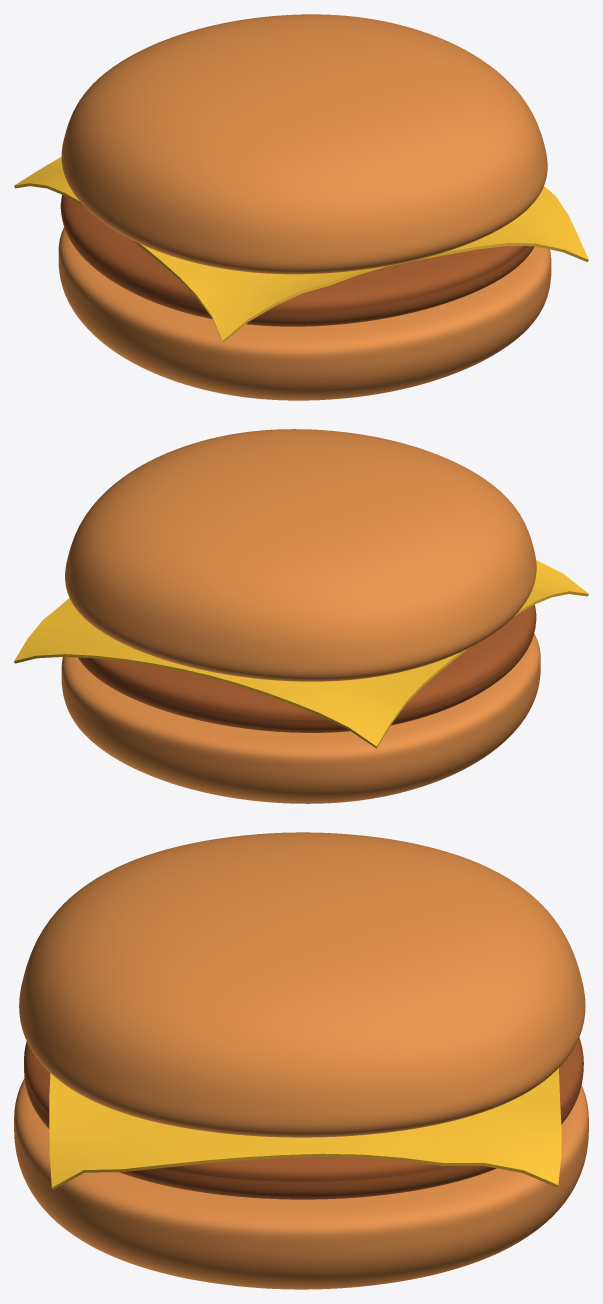
Rendered from hamburger.glb.
3 views of the same model, one above another, from view 1: azimuth 30°, elevation 25°; view 2: azimuth 150°, elevation 25°; view 3: azimuth 270°, elevation 25° (orthographic). The views are drawn at different scales.
Parts seen in each view (by area): view 1: topBun, Bottom Bun, patty, cheese; view 2: topBun, Bottom Bun, patty, cheese; view 3: topBun, Bottom Bun, cheese, patty.
Part boxes in pixels (bbox=[...]): topBun: bbox=[61, 14, 547, 274]; Bottom Bun: bbox=[58, 227, 551, 400]; patty: bbox=[60, 195, 534, 326]; cheese: bbox=[14, 157, 588, 342]; topBun: bbox=[65, 429, 536, 681]; Bottom Bun: bbox=[61, 633, 540, 803]; patty: bbox=[78, 604, 536, 732]; cheese: bbox=[14, 560, 588, 748]; topBun: bbox=[19, 832, 585, 1137]; Bottom Bun: bbox=[14, 1078, 588, 1289]; cheese: bbox=[49, 1068, 561, 1189]; patty: bbox=[24, 1037, 583, 1199].
Size of the model in its own units: 12.41 by 7.55 by 12.41.
